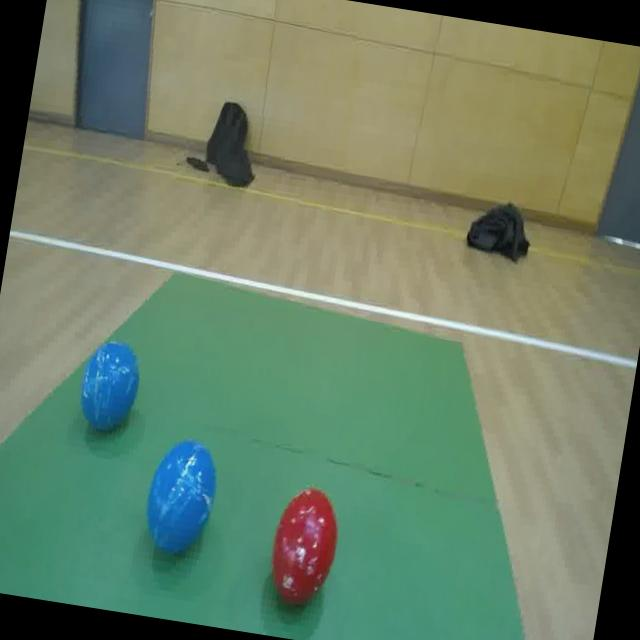blue_ball: (136, 436, 228, 566), (71, 329, 145, 444)
red_ball: (260, 476, 346, 618)
